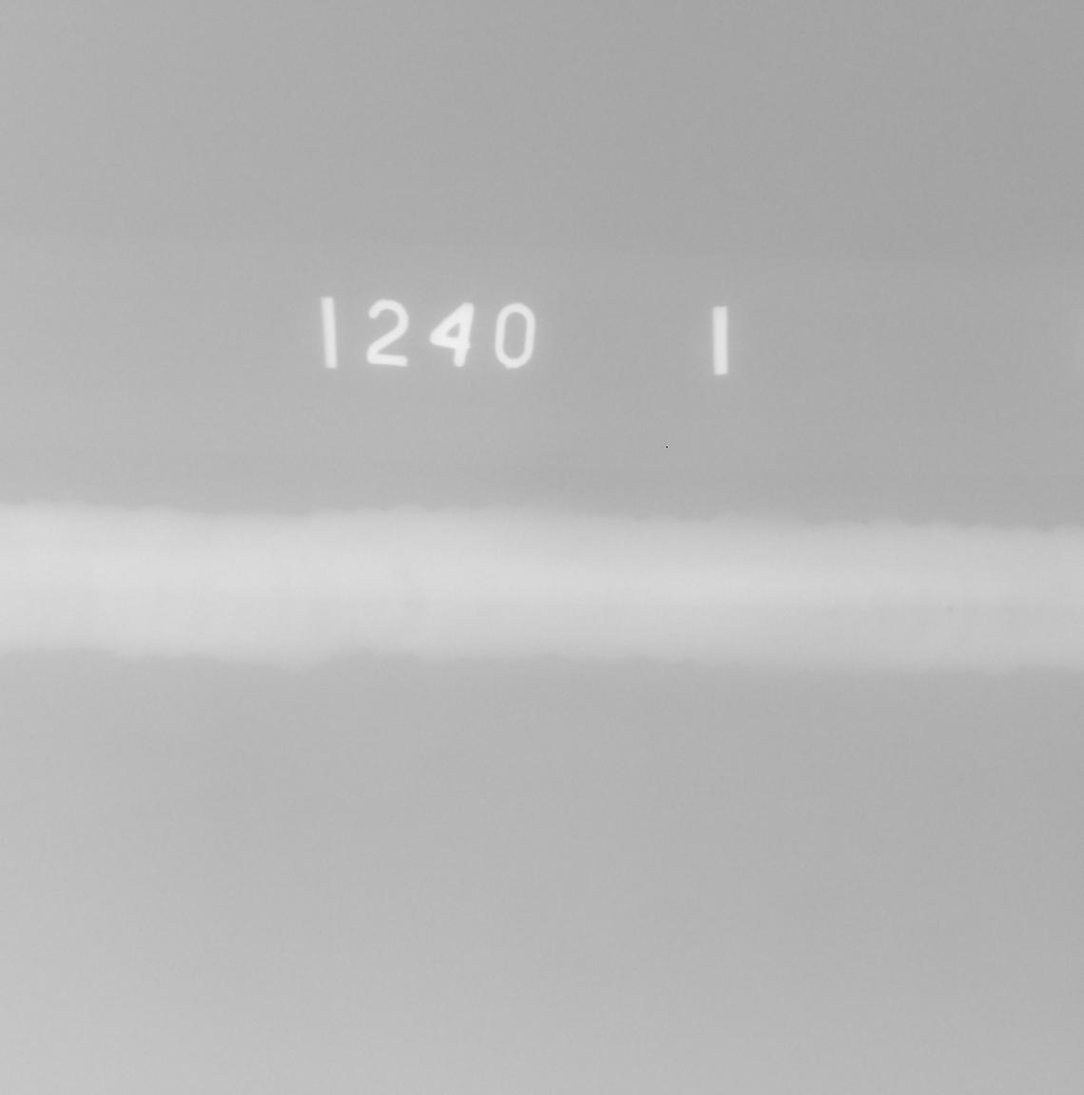Pore/Porosity: (946, 606, 952, 612), (1005, 607, 1012, 612)
